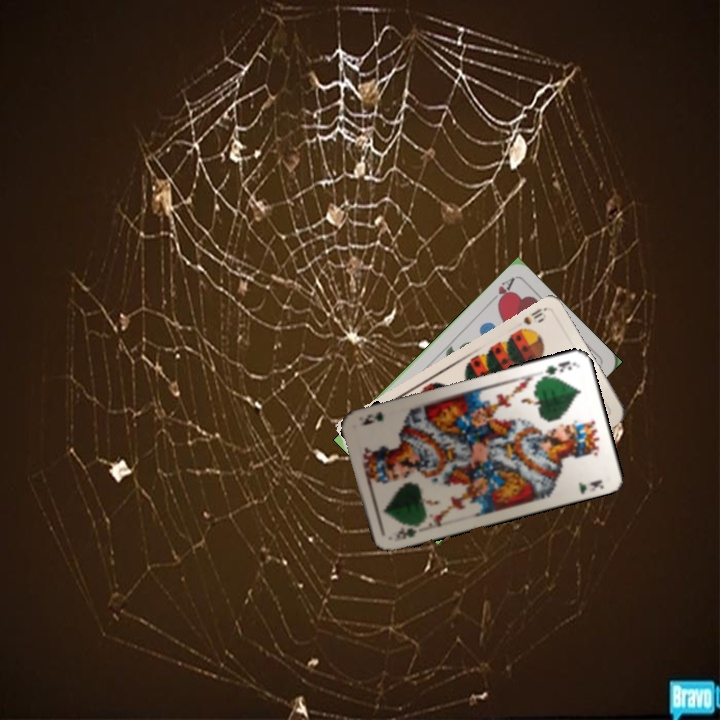GK: (537, 357, 576, 381), (390, 519, 423, 544)
HA: (485, 273, 517, 308)
S10: (514, 304, 549, 336)
